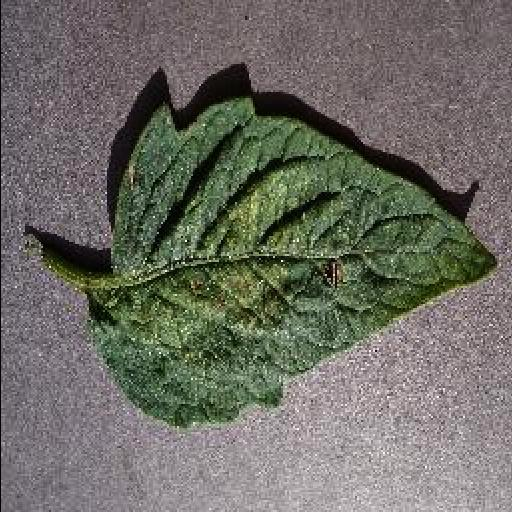disease_tomato: (90, 100, 498, 428)
